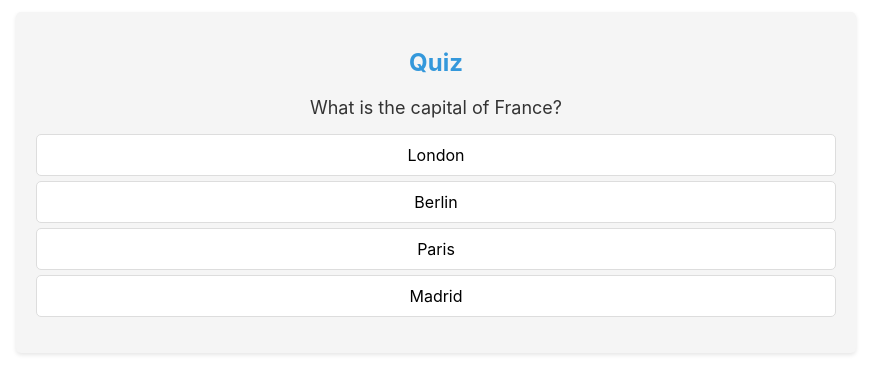
Scenario: App › progresses_to_the_second_question_after_selecting_an_answer_for_the_first_question
The width and height of the screenshot is (873, 372).
# Select an answer for the first question
Click the list item "Berlin": (436, 202) [36,181,836,223]
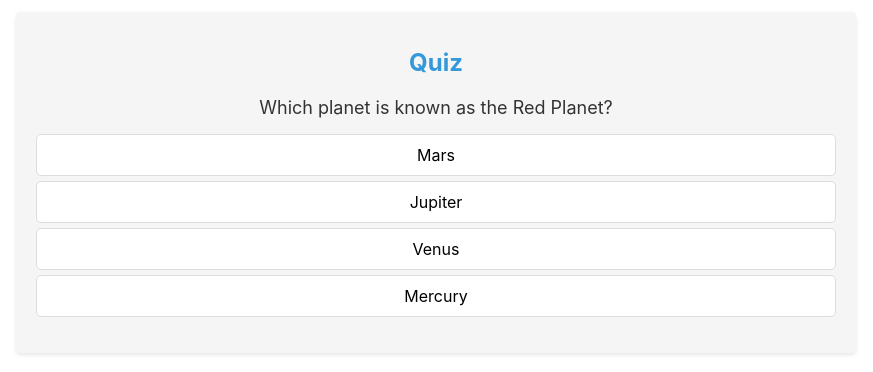
Expected: the text "Which planet is known as the Red Planet?" is shown, [259,97,613,118]
Expected: the list item "Paris" is gone
